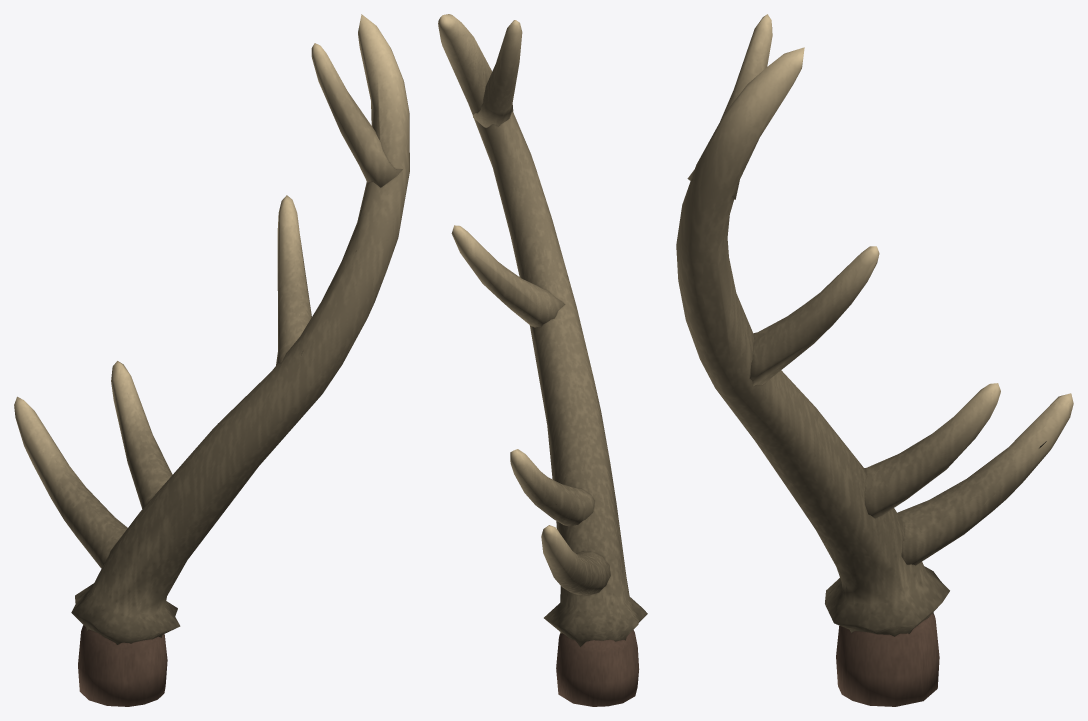
File: cpart_antler_branched.glb
3 views of the same model, side by side, from view 1: azimuth 30°, elevation 25°; view 2: azimuth 150°, elevation 25°; view 3: azimuth 270°, elevation 25° (orthographic). The views are drawn at different scales.
Visible parts, largest first — view 1: AntlerBranched, AntlerBranchedPedicle; view 2: AntlerBranched, AntlerBranchedPedicle; view 3: AntlerBranched, AntlerBranchedPedicle.
Part boxes in pixels (box(x1,y1,x2,y2)): AntlerBranched: box(14, 14, 409, 644); AntlerBranchedPedicle: box(78, 625, 167, 706); AntlerBranched: box(438, 14, 647, 646); AntlerBranchedPedicle: box(556, 630, 639, 706); AntlerBranched: box(676, 14, 1073, 636); AntlerBranchedPedicle: box(836, 613, 939, 706).
Bounding box in the file's own units: 0.1504 × 0.35 × 0.1674.
2 materials, 2 textured.
